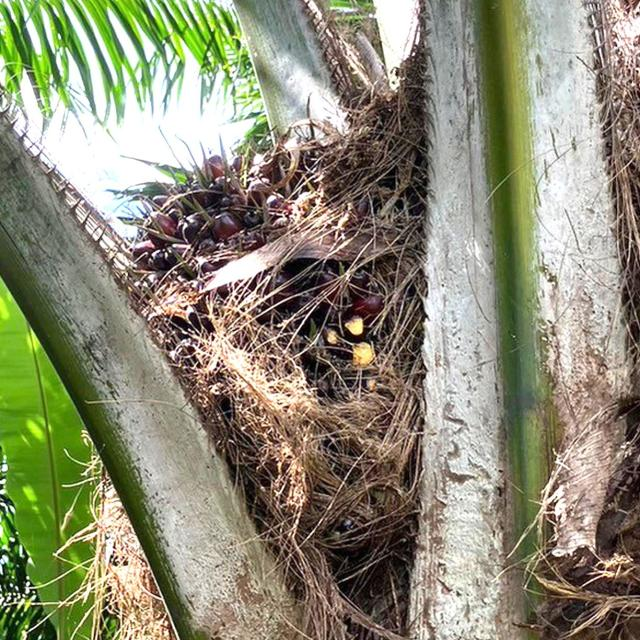almost: (108, 110, 423, 493)
